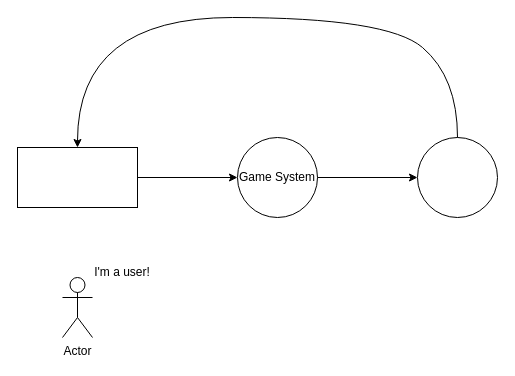
This 515x376 diagram has some shape labels left out. Each missing label, with the centre of its shape:
User: (x=77, y=177)
Visual Output: (x=457, y=177)
